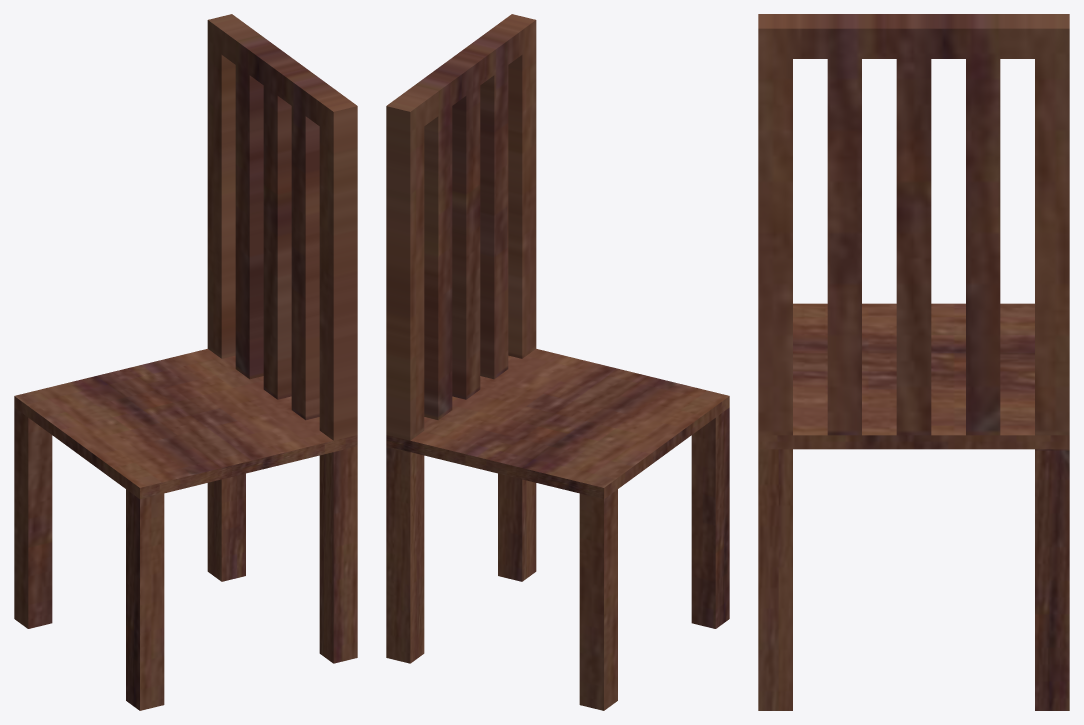
File: chair_diining_wood.glb
3 views of the same model, side by side, from view 1: azimuth 30°, elevation 25°; view 2: azimuth 150°, elevation 25°; view 3: azimuth 270°, elevation 25° (orthographic). The views are drawn at different scales.
Visible parts, largest first — view 1: Cube-col; view 2: Cube-col; view 3: Cube-col.
Part boxes in pixels (x1,y1,x2,y2): Cube-col: [14, 14, 357, 710]; Cube-col: [386, 14, 729, 710]; Cube-col: [758, 14, 1069, 710].
Bounding box in the file's own units: 2 × 4.84 × 2.
Materials: 1 (1 with a texture image).
